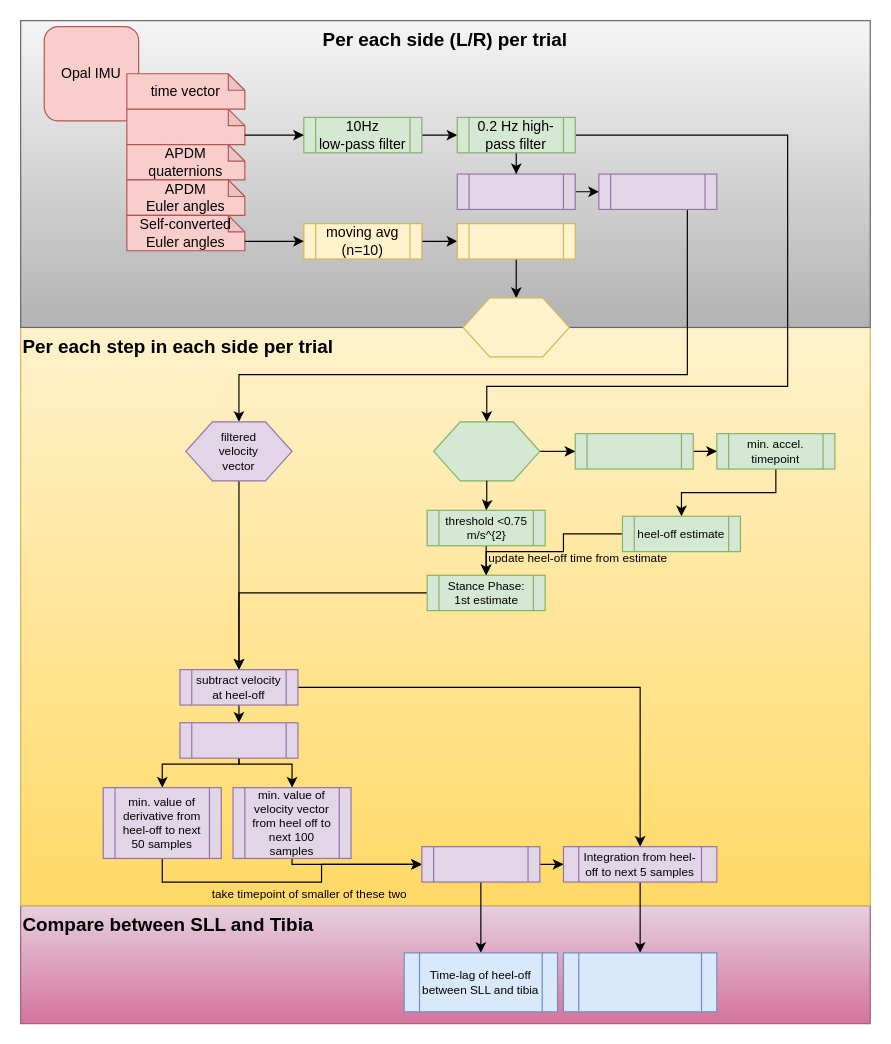
Image size: 891x1044. Some labels were removed from this diagram. The centre of each missing label's shape, as x and y in pixels:
"0.2Hz high-pass filter" goes at (x=657, y=191).
"2Hz low-pass filter" goes at (x=633, y=450).
"acceleration vector" goes at (x=185, y=126).
"derivative of velocity" goes at (x=238, y=740).
"filtered acceleration vector" goes at (x=486, y=451).
"final heel-off estimate" goes at (x=480, y=863).
"Integration" goes at (x=515, y=191).
"Peak detection" goes at (x=515, y=240).
"step start/end times" goes at (x=515, y=327).
"vertical positional difference between SLL and tibia" goes at (x=639, y=982).
